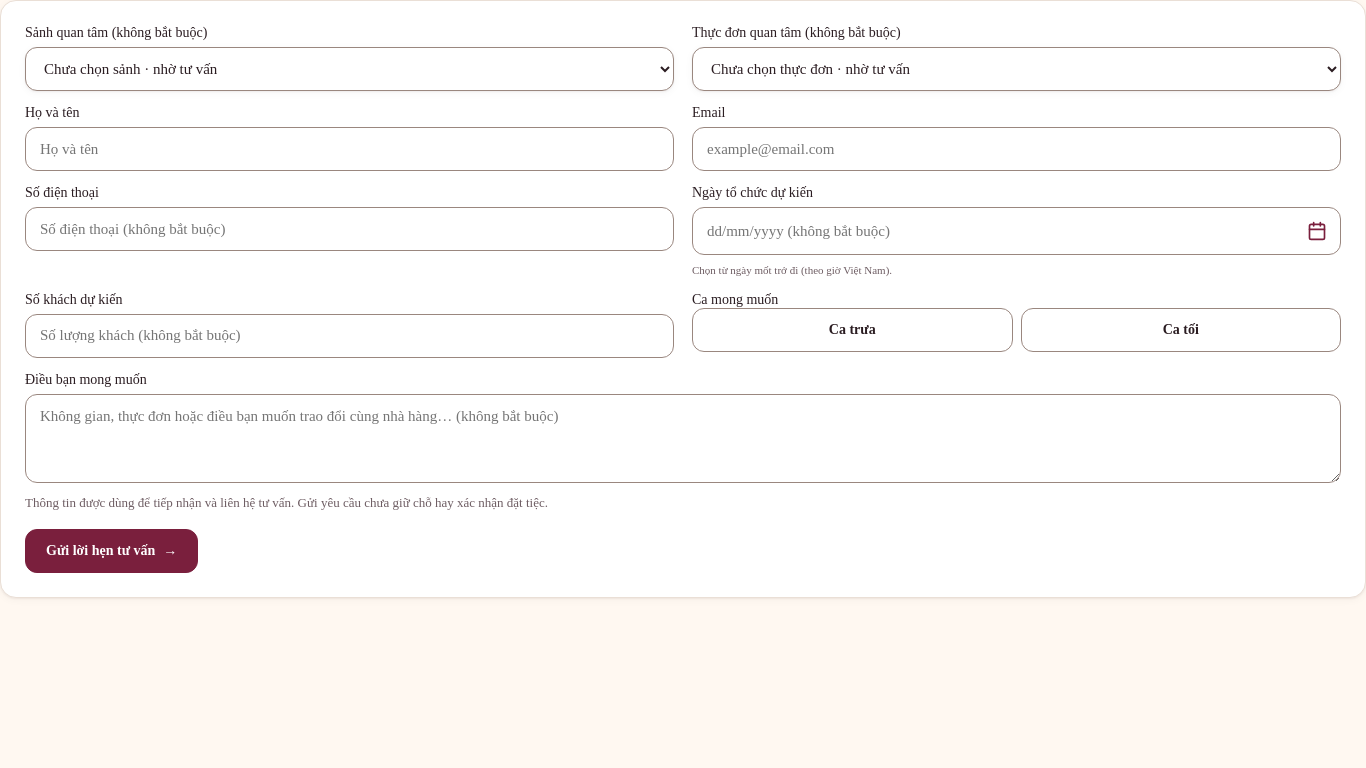
Test: consultation contact prefill for a signed-in couple › keeps what the customer typed before the profile arrived
Type "Chị Lan" into the field labelled "Họ và tên". click: (350, 149)
box: [25, 127, 674, 171]
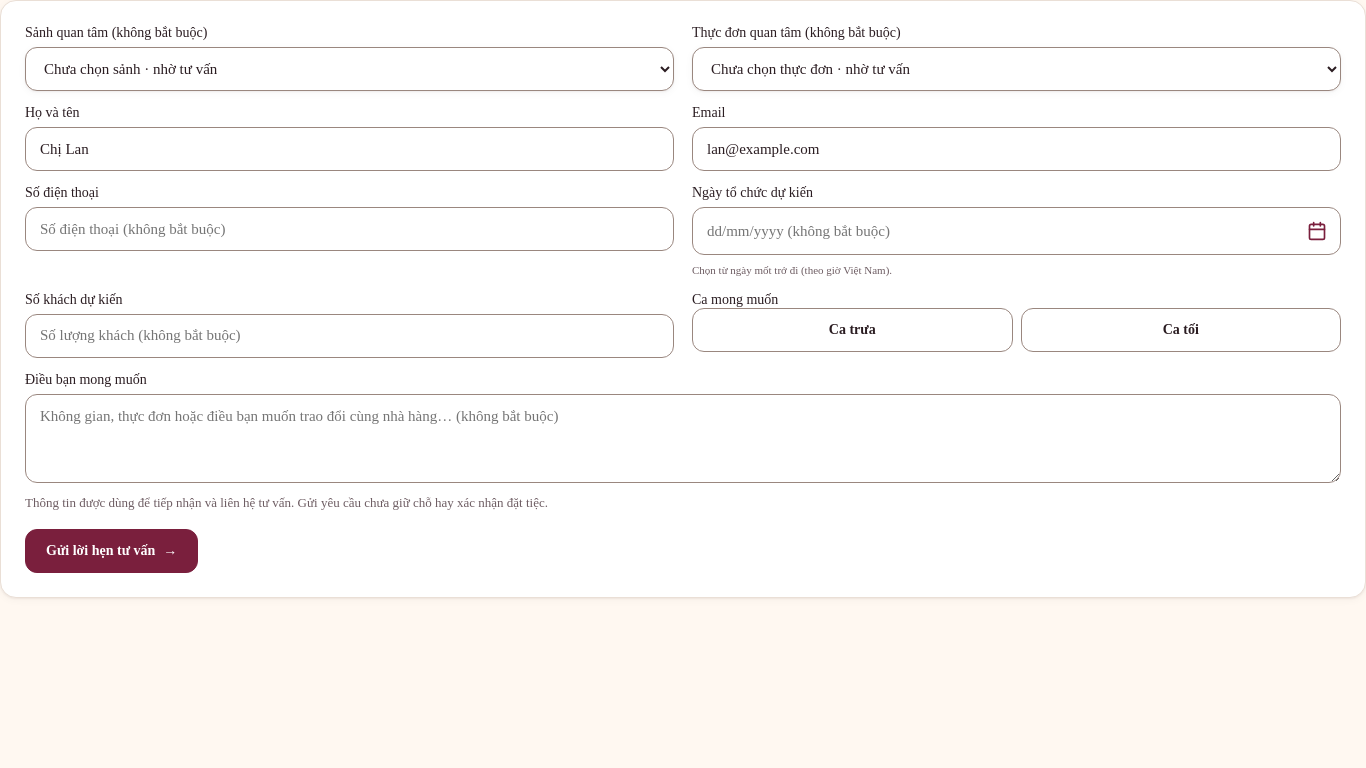
Now the field labelled "Email" holds "lan@example.com", box [692, 127, 1341, 171]
